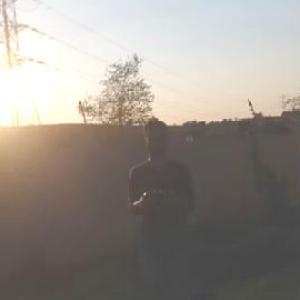follow: (124, 112, 203, 299)
